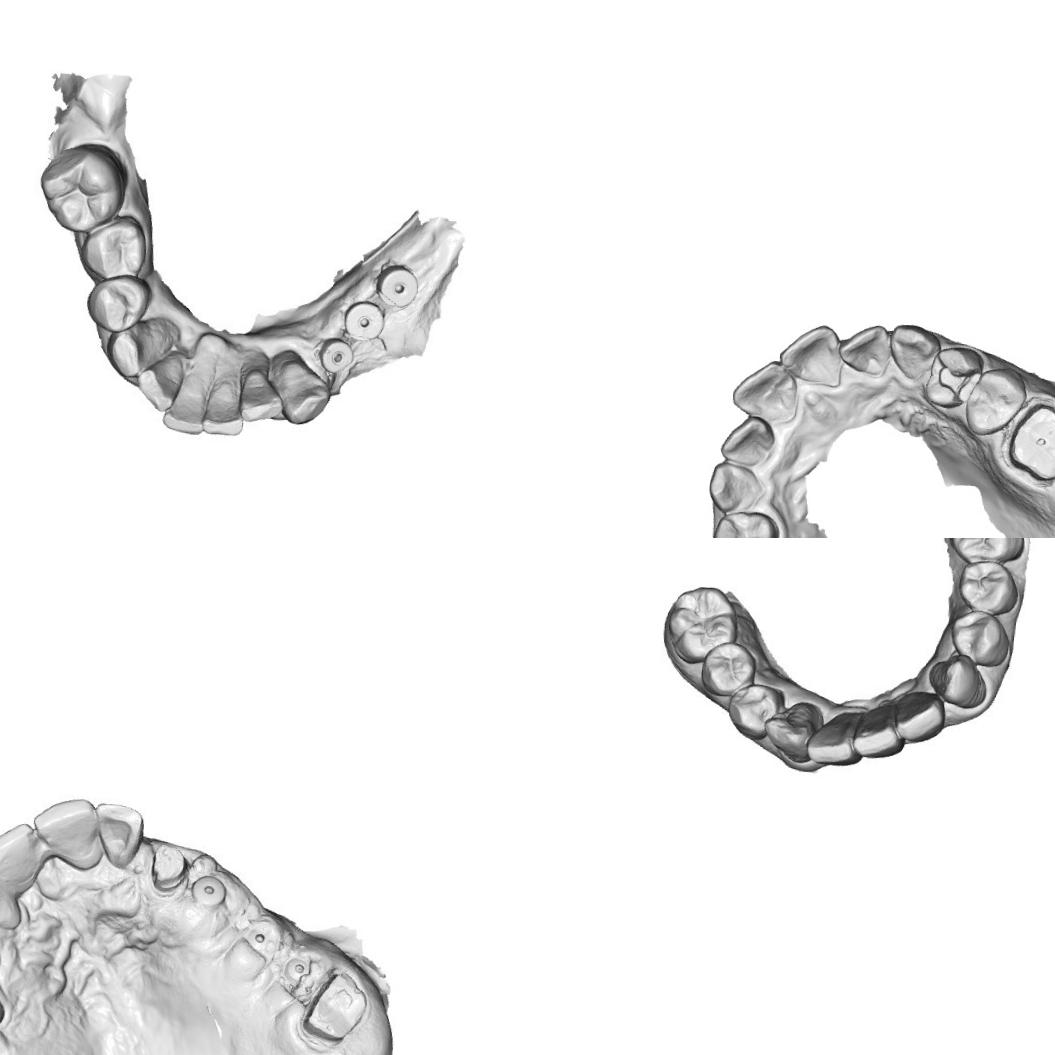canine: (270, 354, 335, 427), (105, 319, 167, 382), (926, 652, 990, 710), (705, 460, 768, 516), (886, 322, 944, 382), (765, 696, 821, 758)
crown: (300, 967, 373, 1046), (997, 393, 1055, 489), (144, 838, 196, 892)
implant: (376, 263, 424, 310), (237, 914, 285, 958), (278, 950, 322, 988), (344, 296, 382, 335), (192, 874, 225, 906), (322, 340, 354, 370)
incisor: (26, 788, 104, 865), (728, 355, 800, 424), (776, 319, 844, 388), (158, 354, 210, 436), (199, 358, 246, 440), (835, 320, 894, 380), (92, 801, 144, 868), (718, 411, 778, 468), (132, 352, 182, 416), (0, 818, 44, 888), (850, 702, 903, 759), (240, 360, 285, 427), (807, 714, 859, 766), (896, 693, 946, 744), (0, 866, 19, 932)
inlay: (934, 357, 982, 405)
molar: (36, 145, 125, 234), (660, 582, 738, 667), (941, 538, 1028, 567)
premolar: (80, 213, 150, 283), (962, 364, 1028, 438), (84, 272, 154, 334), (948, 608, 1013, 665), (960, 557, 1018, 614), (700, 641, 752, 695), (708, 506, 783, 538), (731, 687, 782, 733)
